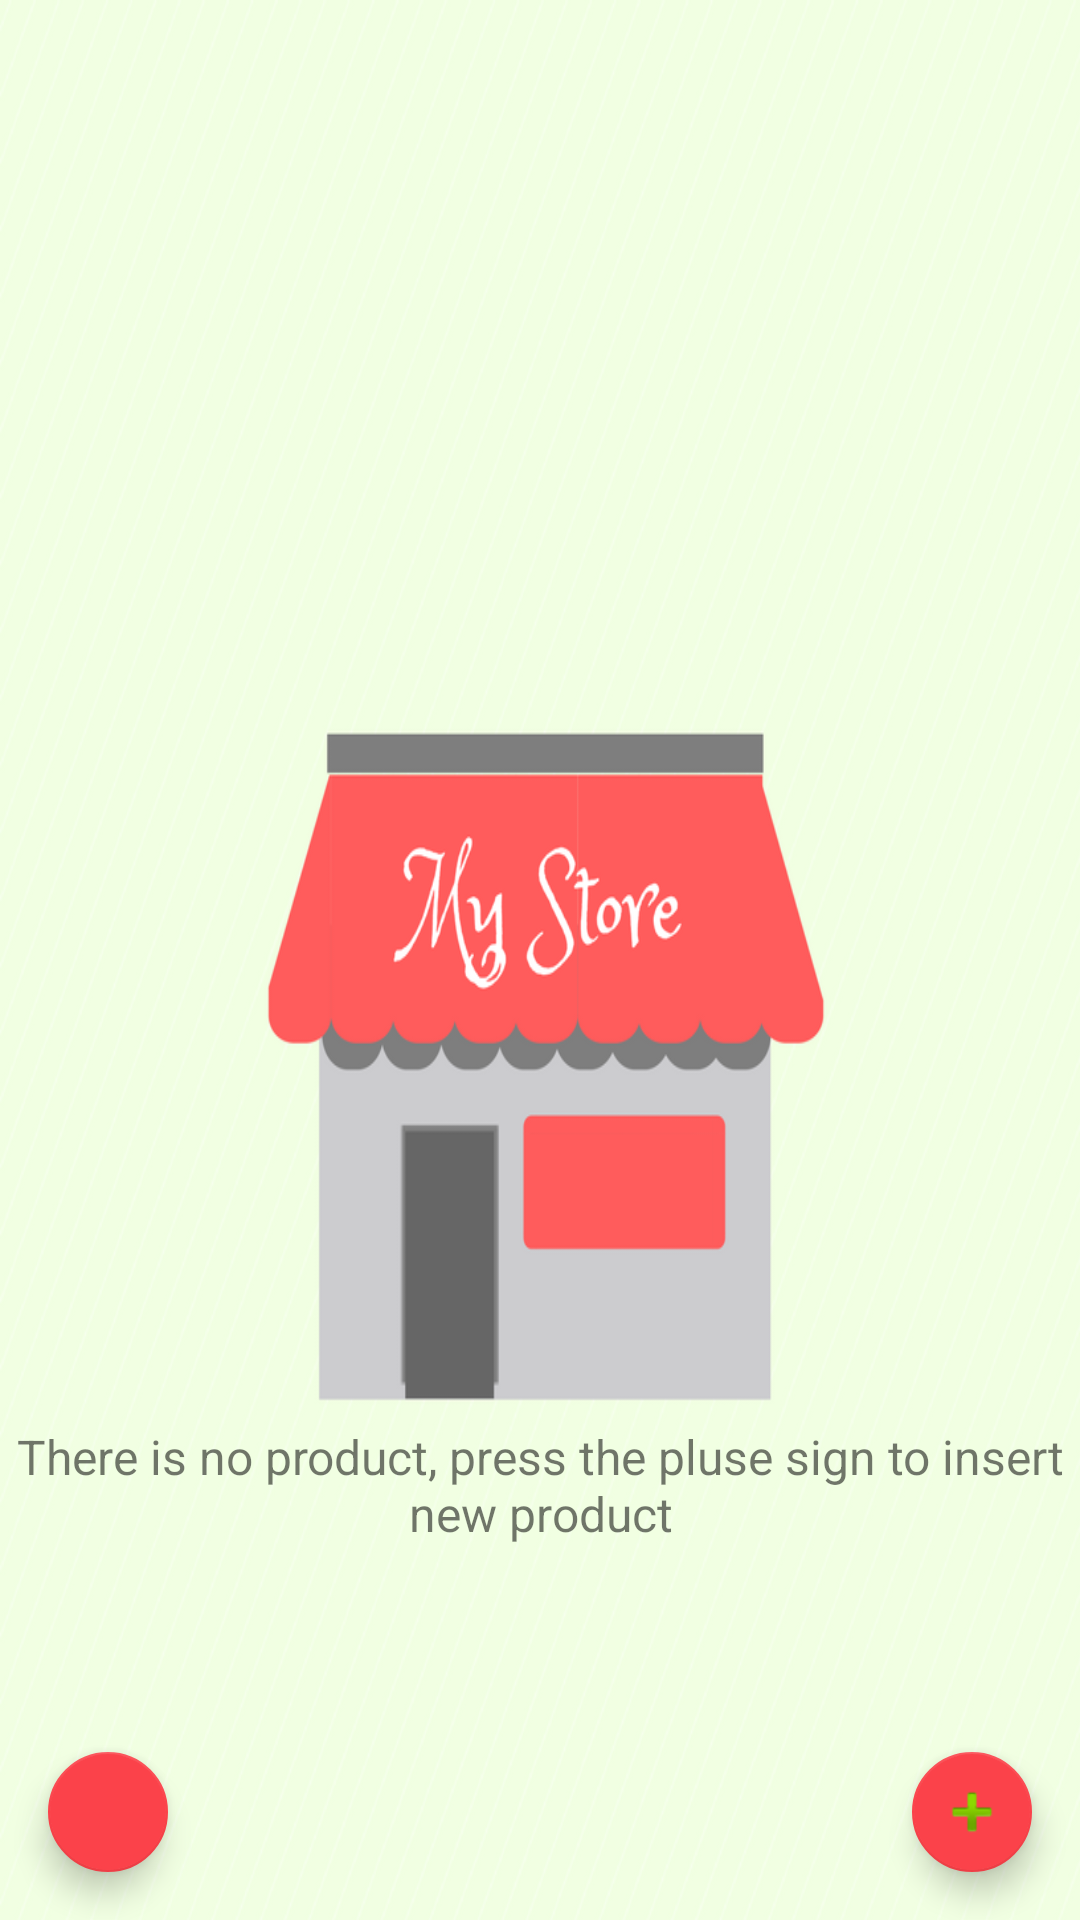

Screen size 1080*1920. Icon name, then its center in pixels as [x,y]:
add: [972,1812]
